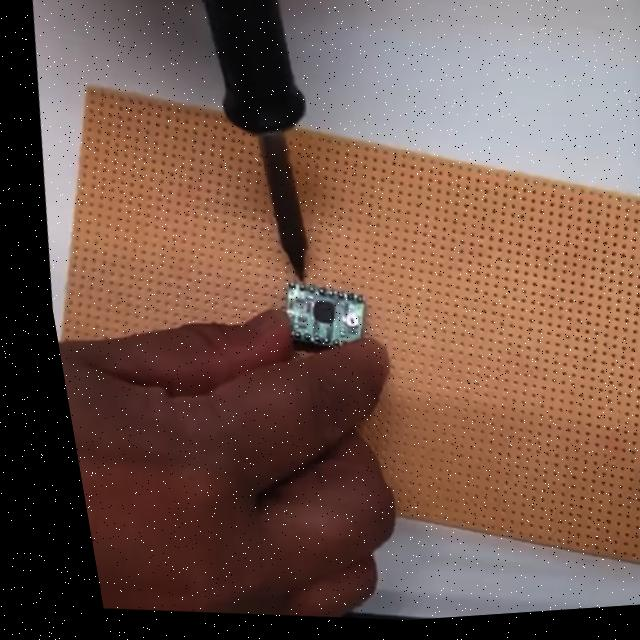Chip: (275, 277, 376, 359)
soldering_iron: (166, 0, 348, 289)
